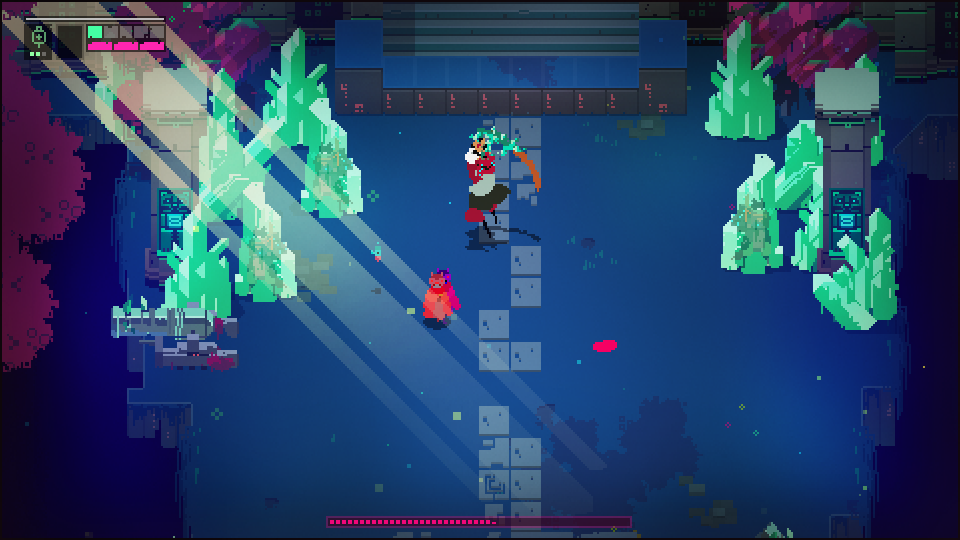hanged_man: (454, 123, 530, 242)
player: (421, 267, 459, 330)
